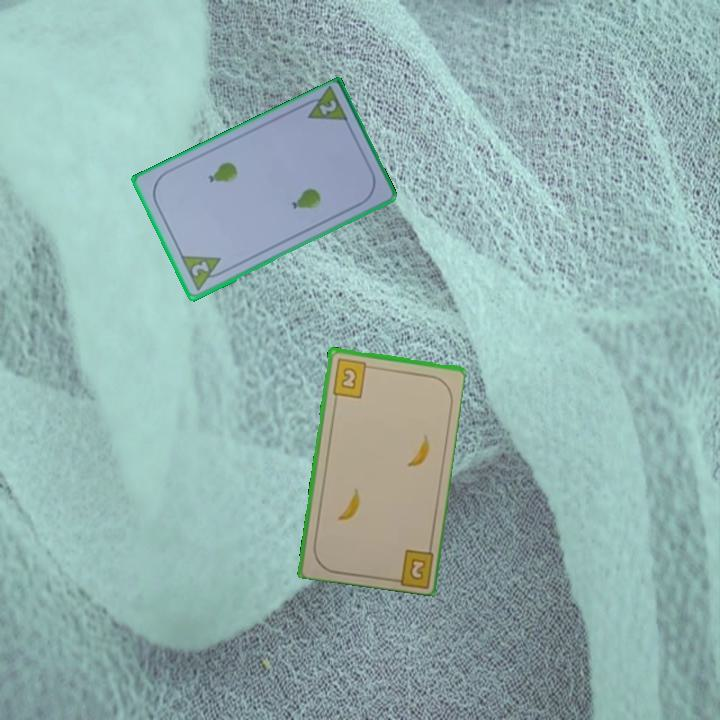2b: (328, 355, 375, 400), (406, 555, 428, 583)
2p: (177, 252, 229, 294), (315, 96, 339, 118)
